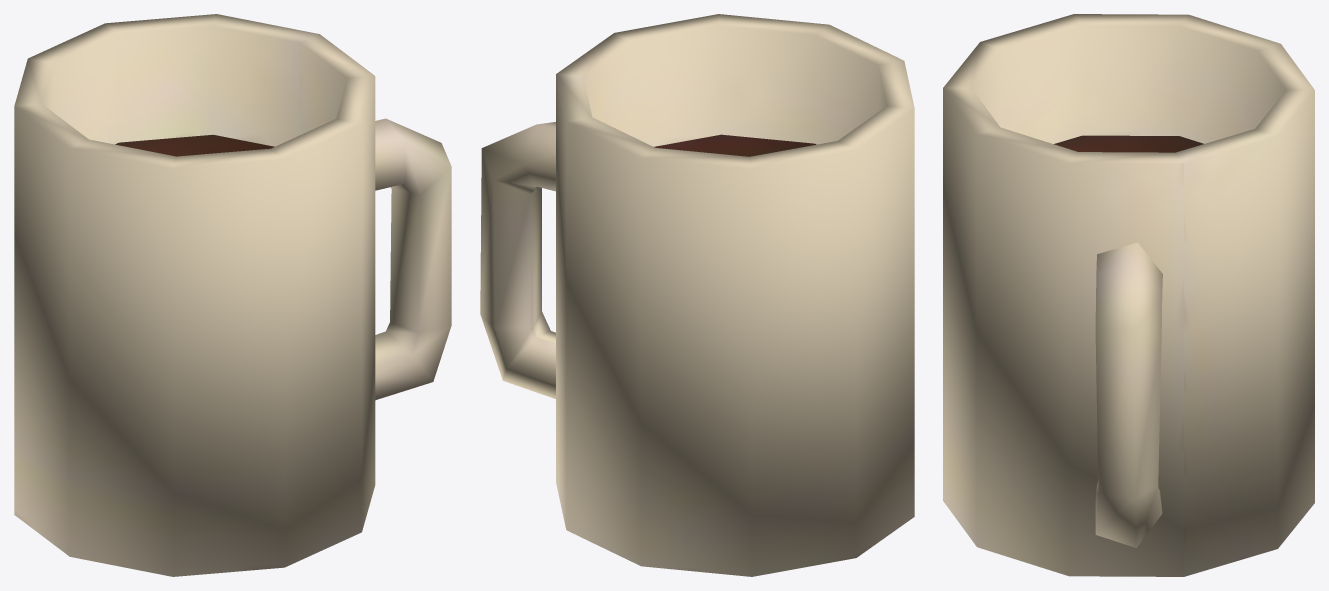
Rendered from mug.glb.
3 views of the same model, side by side, from view 1: azimuth 30°, elevation 25°; view 2: azimuth 150°, elevation 25°; view 3: azimuth 270°, elevation 25° (orthographic).
Visible parts, largest first — view 1: Cylinder.010; view 2: Cylinder.010; view 3: Cylinder.010.
Part boxes in pixels (x1=…): Cylinder.010: x1=14, y1=14, x2=451, y2=576; Cylinder.010: x1=480, y1=14, x2=914, y2=576; Cylinder.010: x1=943, y1=14, x2=1314, y2=576.
Size of the model in its own units: 0.2621 by 0.2529 by 0.2065.
1 material, 1 textured.
